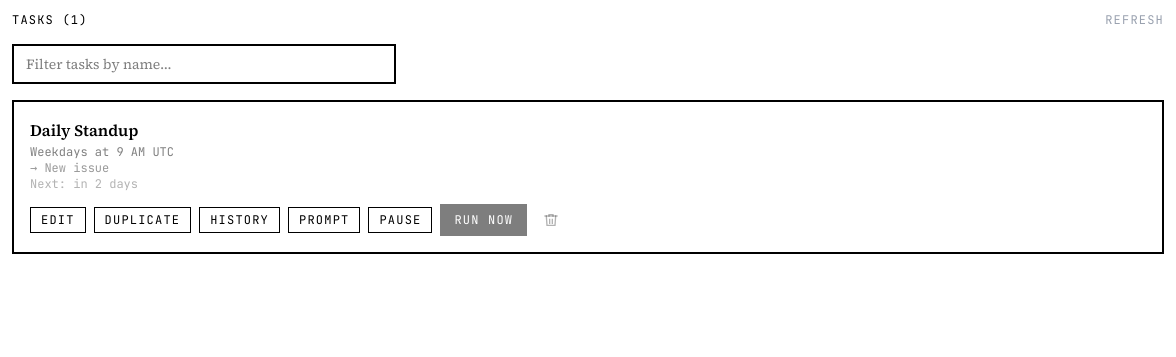
Scenario: TaskList › shows empty run history message when no runs
The width and height of the screenshot is (1176, 357).
Click the button "History": point(240, 220) [199,207,280,233]
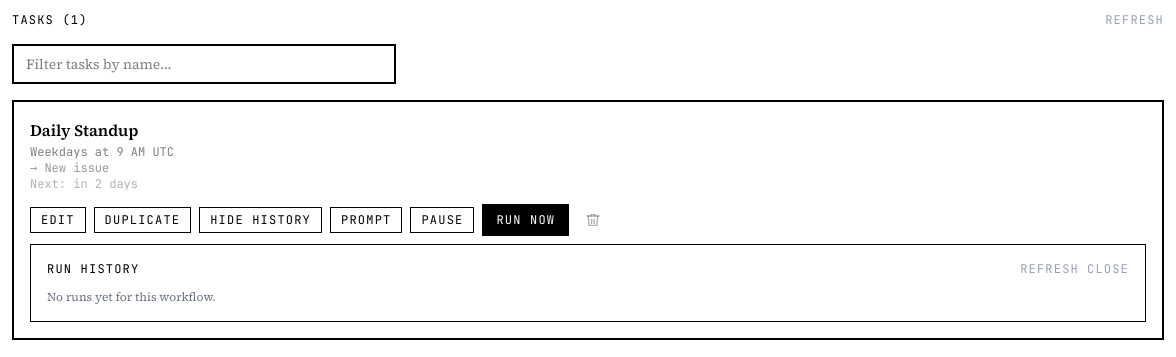
expect the text "No runs yet for this workflow." is shown: met, box [47,289,216,305]
